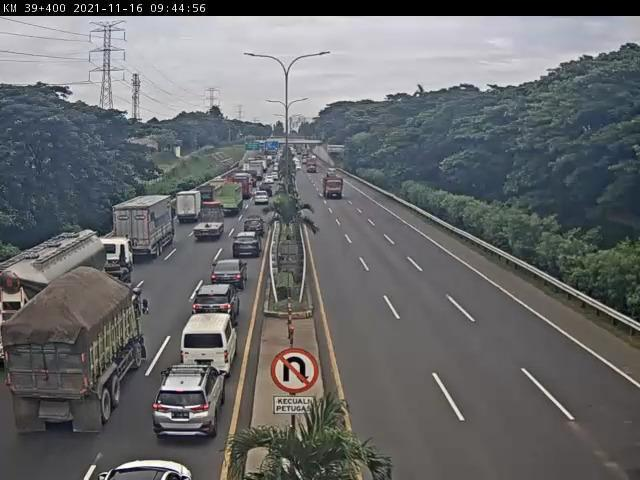car: (153, 367, 225, 439), (182, 315, 237, 376), (189, 287, 237, 335), (209, 260, 246, 292), (230, 233, 262, 262), (242, 219, 269, 243), (251, 189, 272, 210)
truck: (1, 274, 153, 433), (1, 233, 133, 338), (114, 195, 181, 261), (192, 204, 227, 246), (212, 182, 248, 221), (170, 190, 201, 226)
